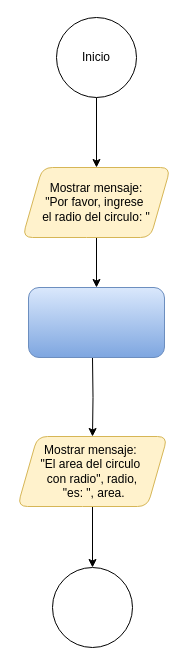
This 188x665 diagram has some shape labels left out. Each missing label, with the centre of its shape:
"Definir y asignar a la variable 'area' el resultado de 'pi * radio ^ 2'" belongs at point (96, 322).
"Fin" belongs at point (92, 607).
